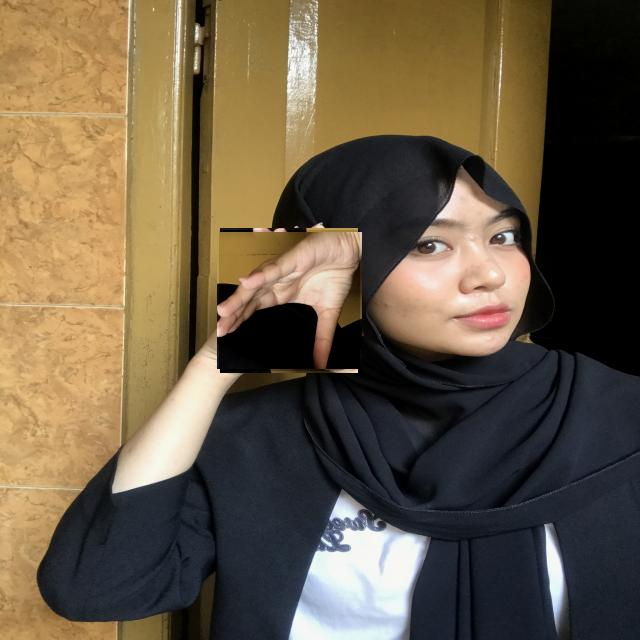mendengar: (219, 230, 360, 371)
